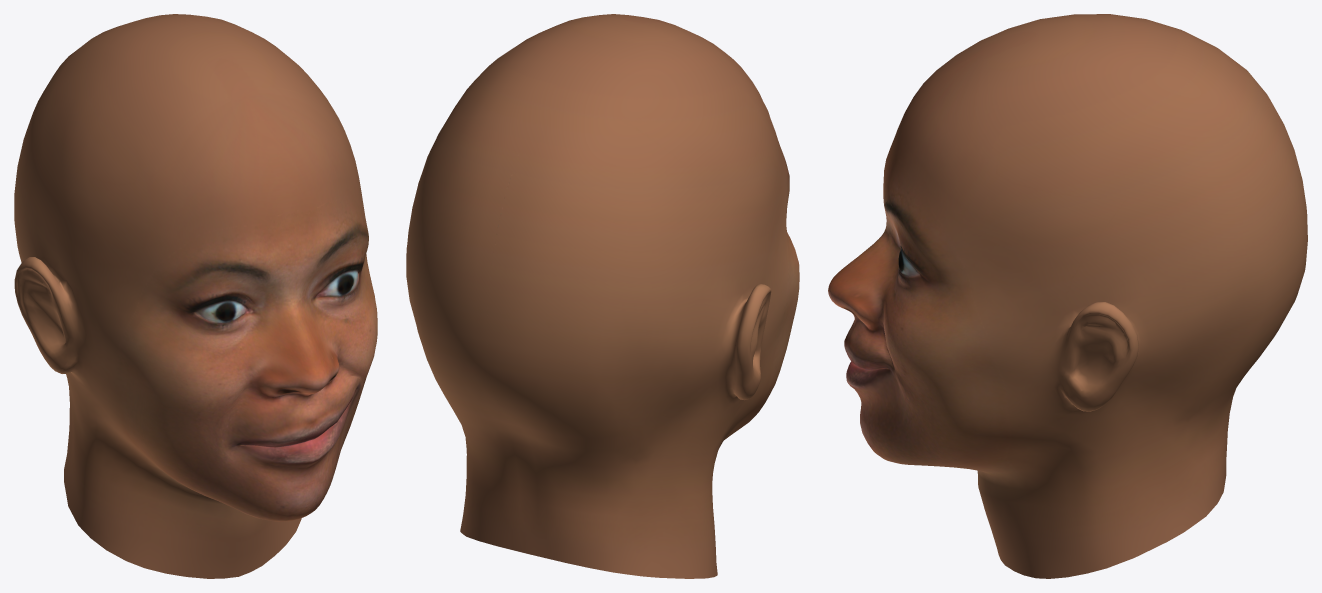
The model's file is v332_obj_ExpressionSmileLeft.obj.
The picture shows the model from 3 angles, left to right: view 1: azimuth 30°, elevation 25°; view 2: azimuth 150°, elevation 25°; view 3: azimuth 270°, elevation 25°; orthographic projection. The views are drawn at different scales.
Parts seen in each view (by area): view 1: HeadHires; view 2: HeadHires; view 3: HeadHires.
Boxes of the visible parts, box(x1,y1,x2,y2) form: HeadHires: box(14, 14, 377, 578); HeadHires: box(406, 14, 799, 578); HeadHires: box(828, 14, 1307, 578).
Size of the model in its own units: 187 by 282 by 233.
